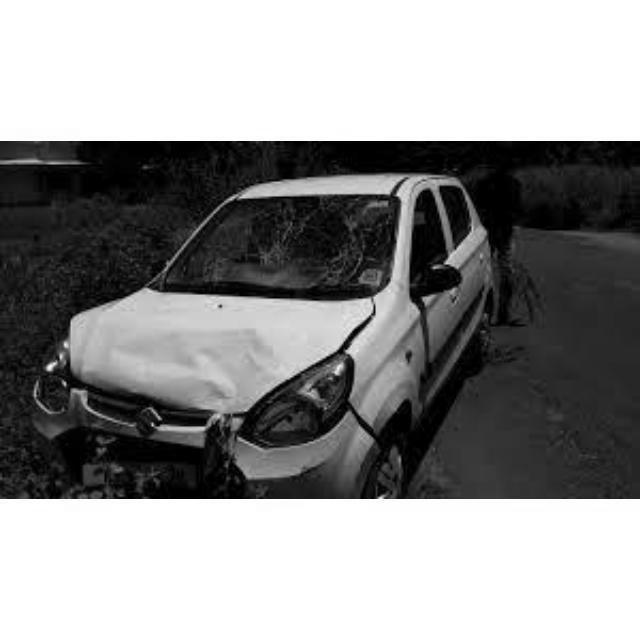Front-windscreen-damage: (169, 199, 407, 301)
bonnet-dent: (75, 293, 305, 412)
fender-dent: (340, 299, 427, 465)
